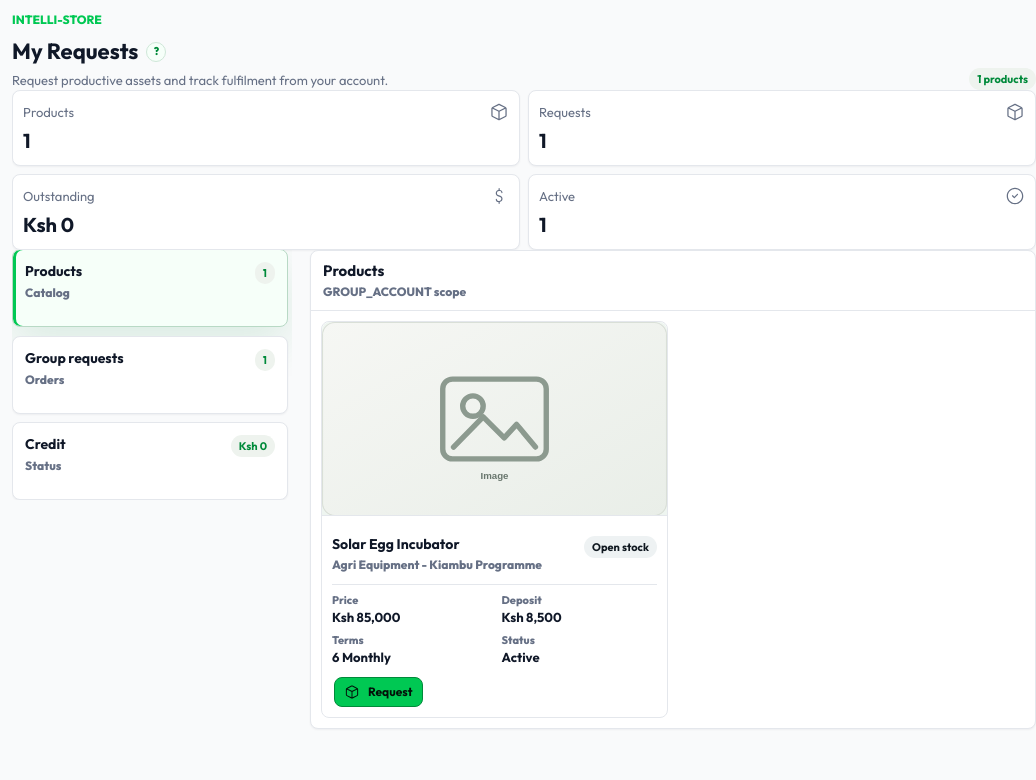
it: web smoke helpers › renders the account Intelli-Store page for product requests
The image size is (1036, 780).
Expected: the heading "My Requests" is shown, [12, 37, 138, 65]
Expected: the button "Products Catalog 1" is shown, [12, 250, 288, 327]
What coordinates should you click on to do the following:
click the button "Group requests Orders 1"
I would click on:
 (74, 358)
Its box is [12, 336, 288, 414].
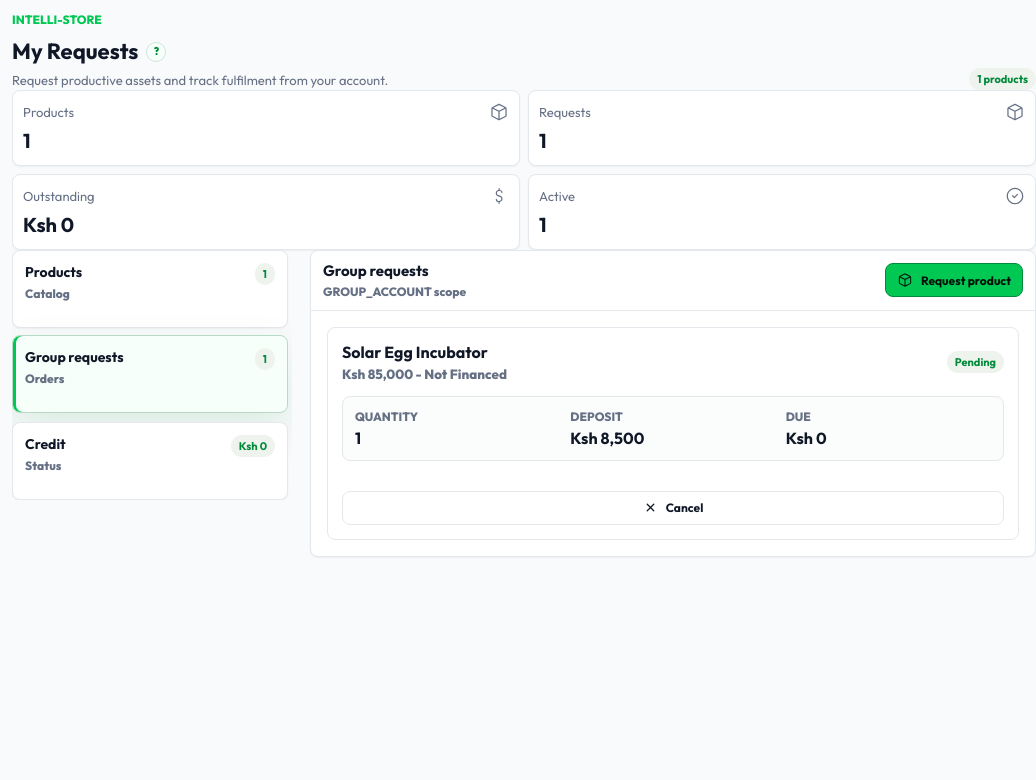
Result: the button "Request product" is shown at [885, 263, 1023, 297]
Result: the text "Solar Egg Incubator" is shown at [342, 342, 488, 362]
Result: the text "Pending" is shown at [947, 351, 1004, 373]
